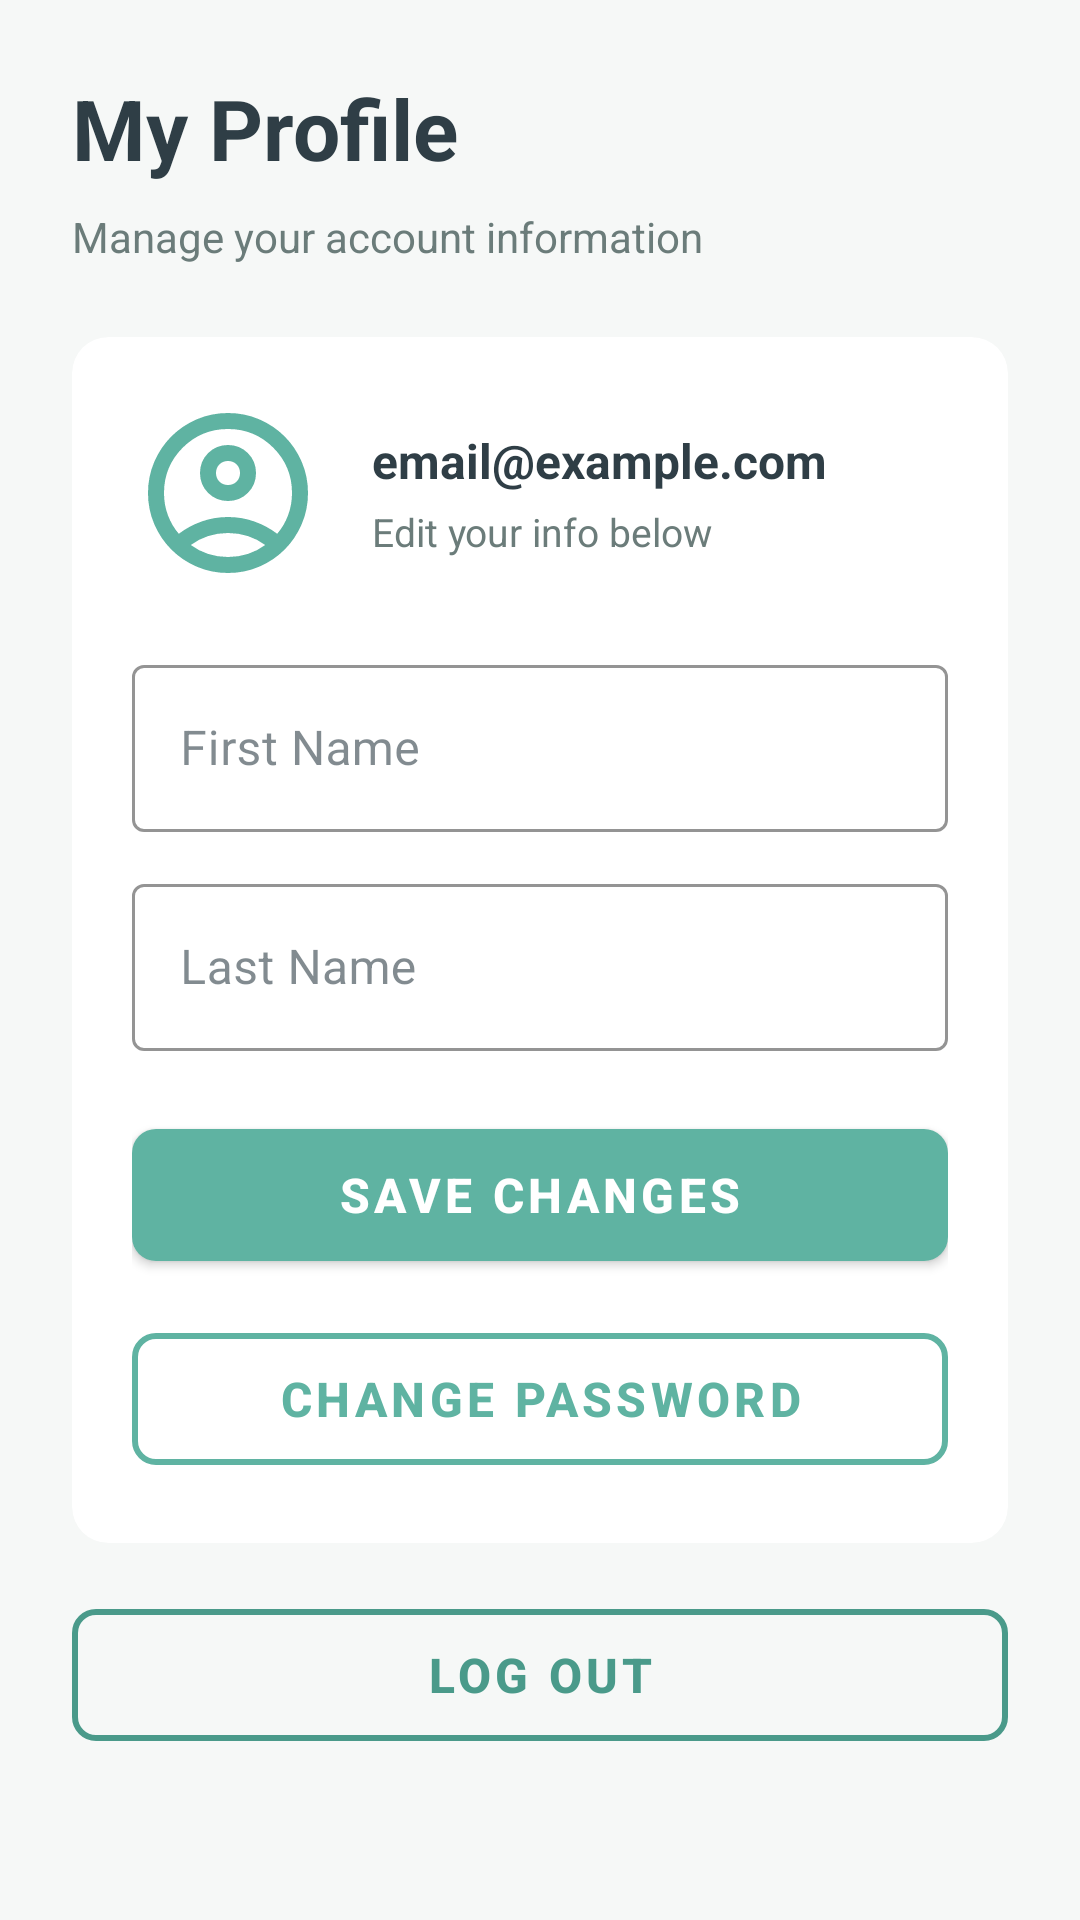

Locate icon controls on the screen. Image size 1080px×1920px, boxes as {"left": x1, "top": y1, "right": x2, "bottom": y2}.
profile: {"left": 148, "top": 413, "right": 308, "bottom": 573}
